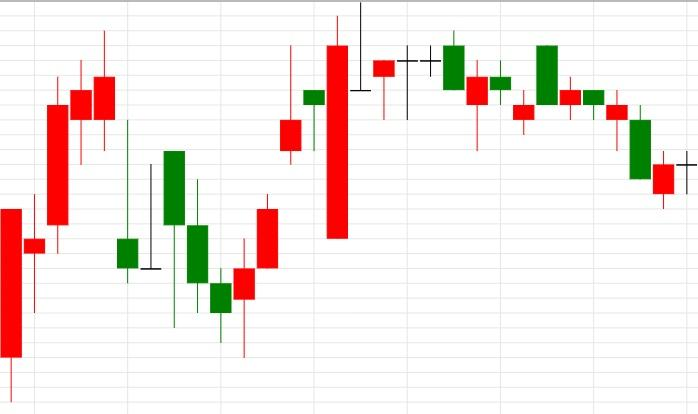hanging_man_fall: (209, 0, 396, 359), (209, 45, 326, 358)
three_white_soldiers_rise: (162, 44, 303, 359)
